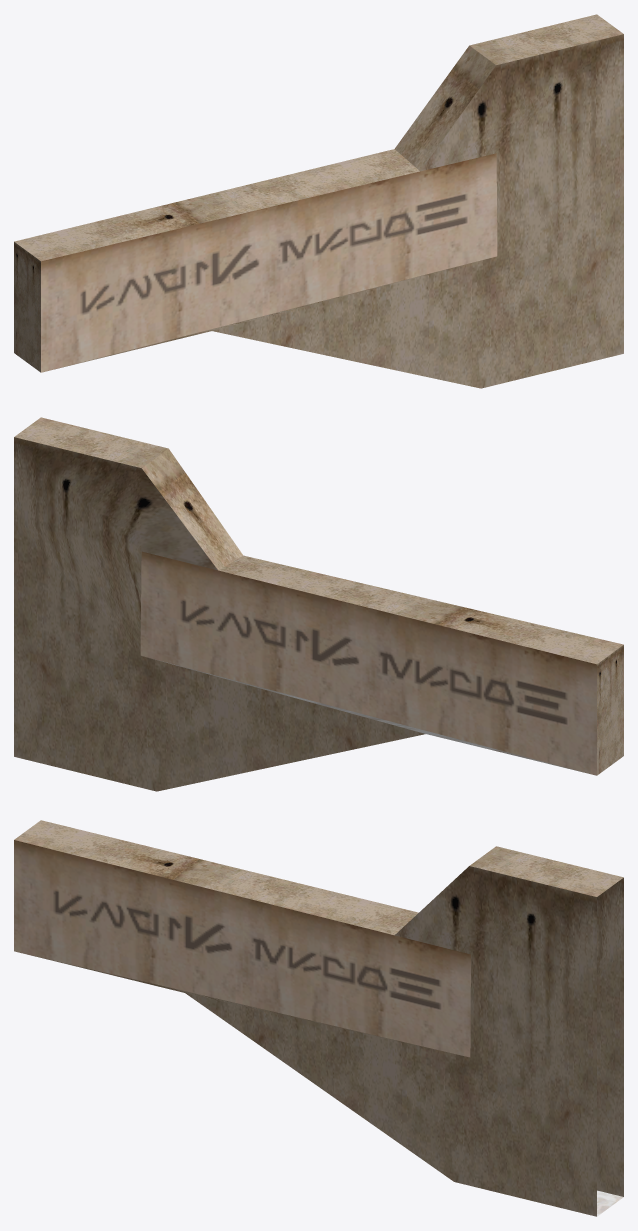
Rendered from thm_tato_imprv_street_sign_wall_s01_l1.fbx.
3 views of the same model, one above another, from view 1: azimuth 30°, elevation 25°; view 2: azimuth 150°, elevation 25°; view 3: azimuth 330°, elevation 25° (orthographic).
Parts seen in each view (by area): view 1: mesh_node; view 2: mesh_node; view 3: mesh_node.
Part boxes in pixels (box(x1,y1,x2,y2)): mesh_node: box(14, 14, 623, 388); mesh_node: box(14, 417, 623, 791); mesh_node: box(14, 820, 623, 1216).
Size of the model in its own units: 2 by 1.05 by 0.1605.
